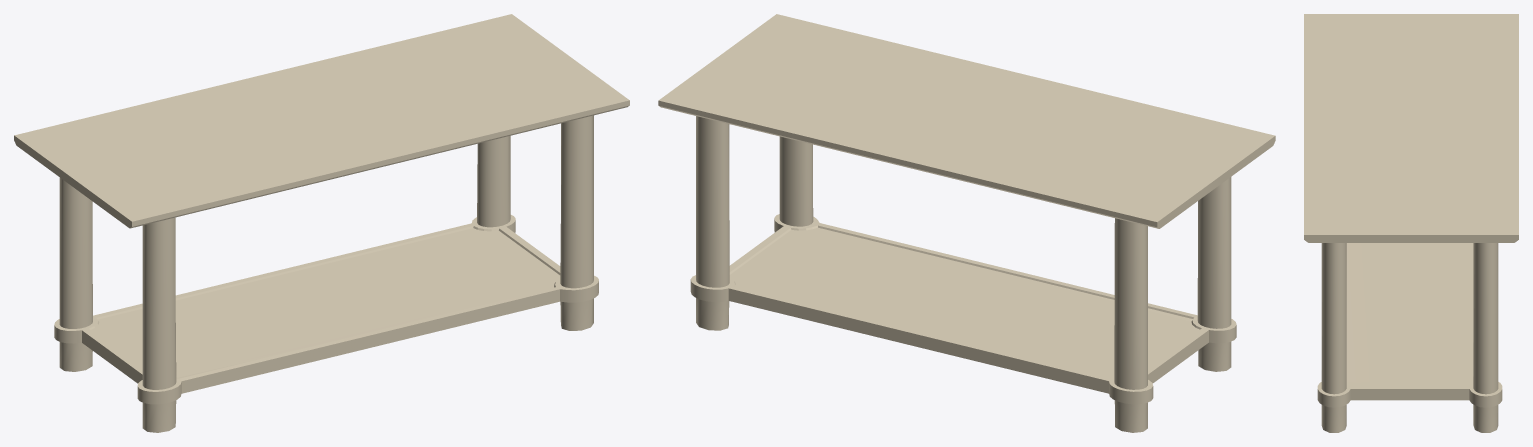
The model's file is mesa3.fbx.
3 renders of one model, left to right at view 1: azimuth 30°, elevation 25°; view 2: azimuth 150°, elevation 25°; view 3: azimuth 270°, elevation 25°, orthographic. The views are drawn at different scales.
Parts seen in each view (by area): view 1: mesa2; view 2: mesa2; view 3: mesa2.
Boxes of the visible parts, box(x1,y1,x2,y2) form: mesa2: box(14, 14, 629, 432); mesa2: box(658, 14, 1275, 432); mesa2: box(1304, 14, 1518, 432).
Bounding box in the file's own units: 56.19 × 24.59 × 23.07.
